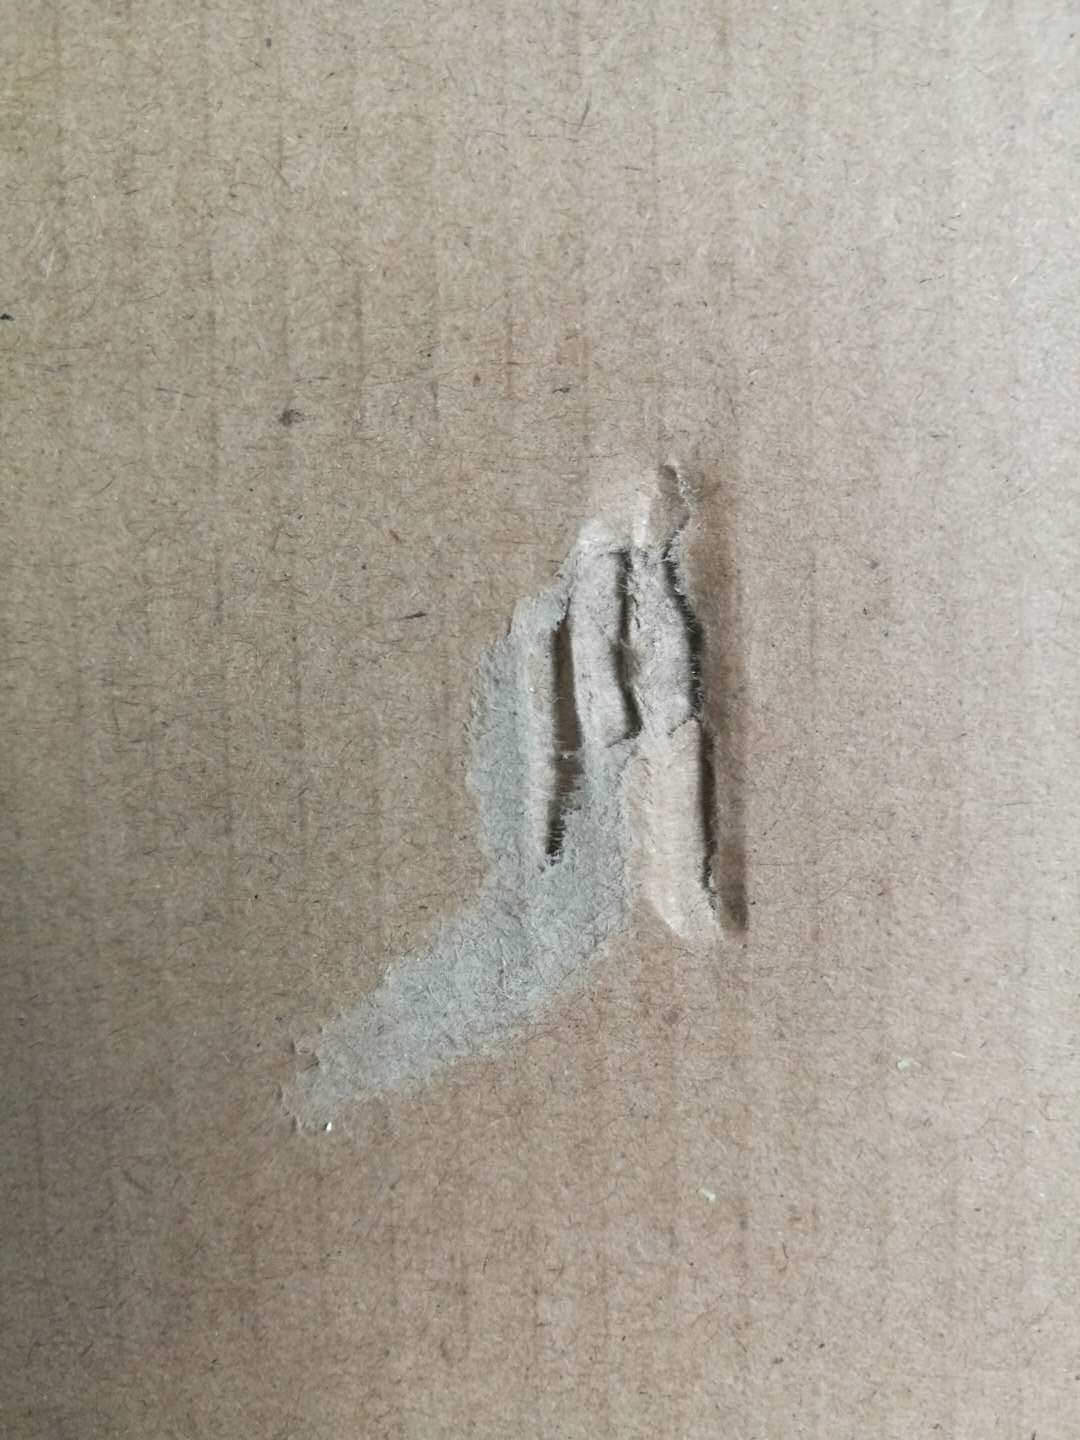defect: (233, 405, 839, 1195)
